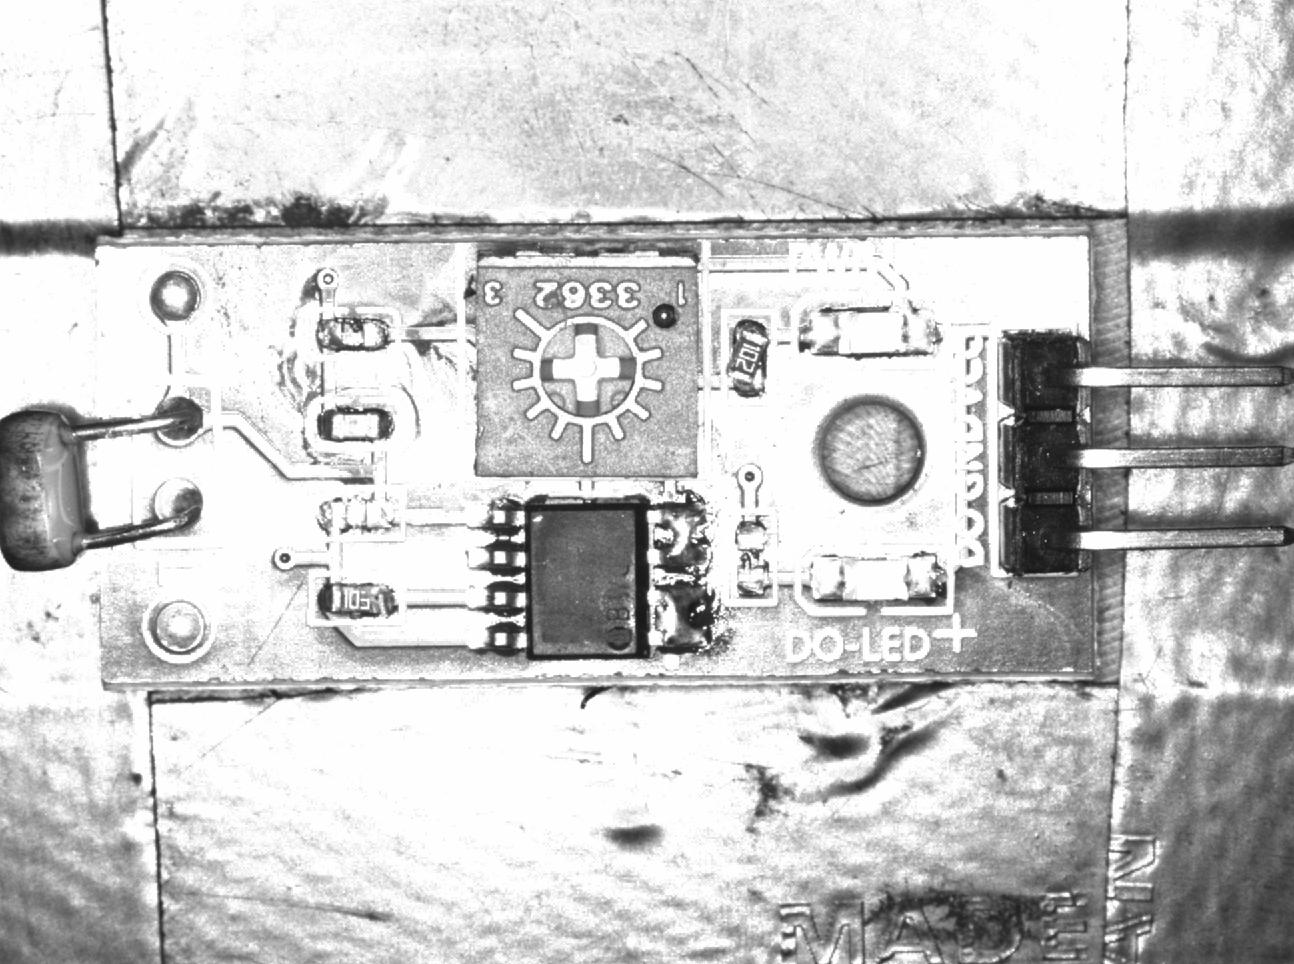bridge: (646, 582, 719, 653), (646, 502, 717, 571)
lifted: (719, 306, 774, 400)
miss: (724, 509, 781, 605), (309, 487, 403, 540), (302, 310, 401, 358)
ok: (309, 398, 403, 446), (314, 570, 404, 618)
